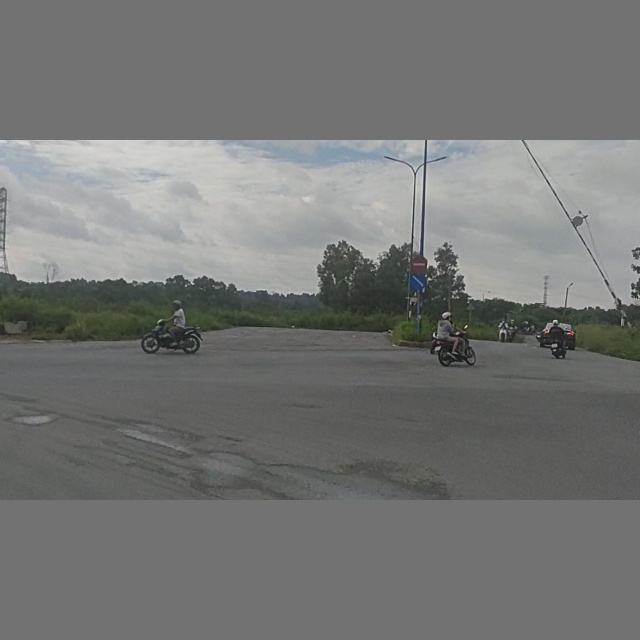P.102: (412, 255, 427, 272)
R.302a: (409, 272, 427, 290)
